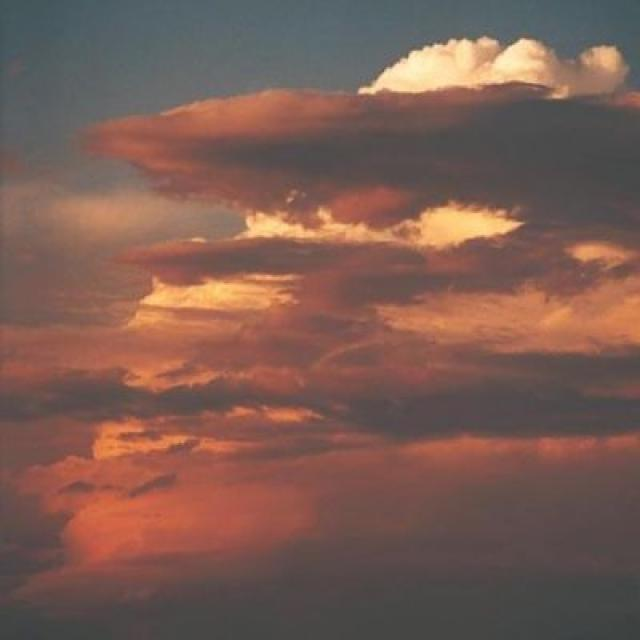Cb: (4, 34, 640, 543)
